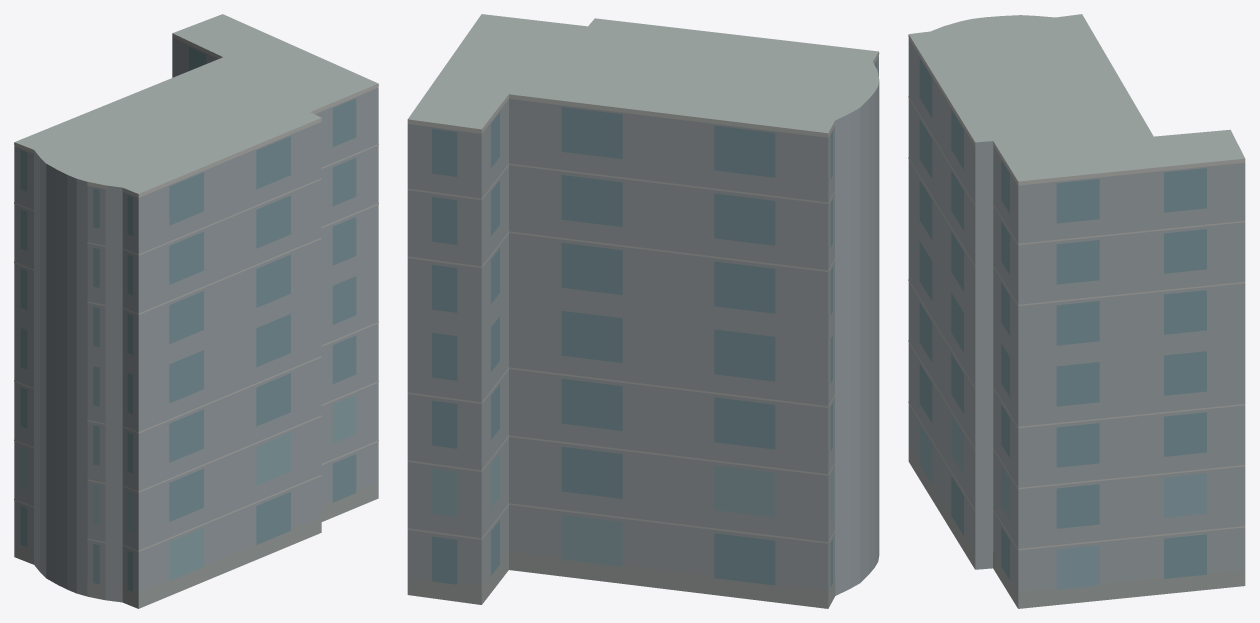
The model's file is survey-upis-32650997.glb.
3 views of the same model, side by side, from view 1: azimuth 30°, elevation 25°; view 2: azimuth 150°, elevation 25°; view 3: azimuth 270°, elevation 25° (orthographic). The views are drawn at different scales.
Parts seen in each view (by area): view 1: survey-upis-32650997.tmp; view 2: survey-upis-32650997.tmp; view 3: survey-upis-32650997.tmp.
Part boxes in pixels (left/top/right/bottom): survey-upis-32650997.tmp: left=14, top=14, right=378, bottom=608; survey-upis-32650997.tmp: left=407, top=14, right=879, bottom=608; survey-upis-32650997.tmp: left=908, top=14, right=1245, bottom=608.
Bounding box in the file's own units: 21.47 × 25.5 × 18.23.
